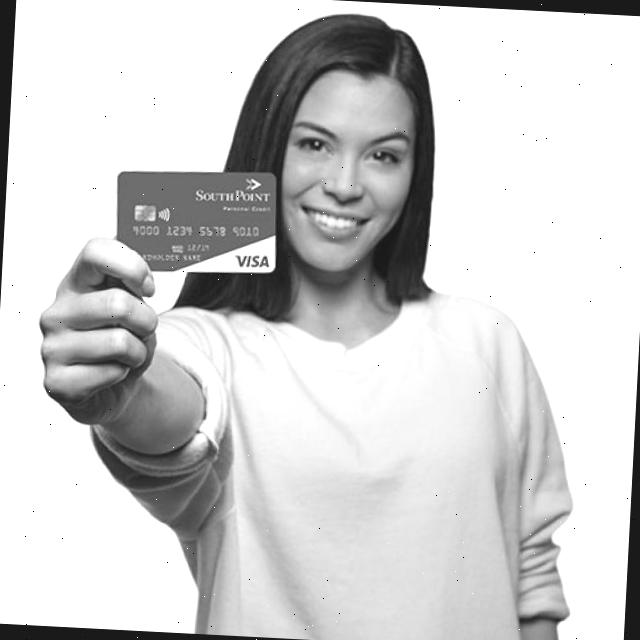card: (117, 172, 275, 273)
